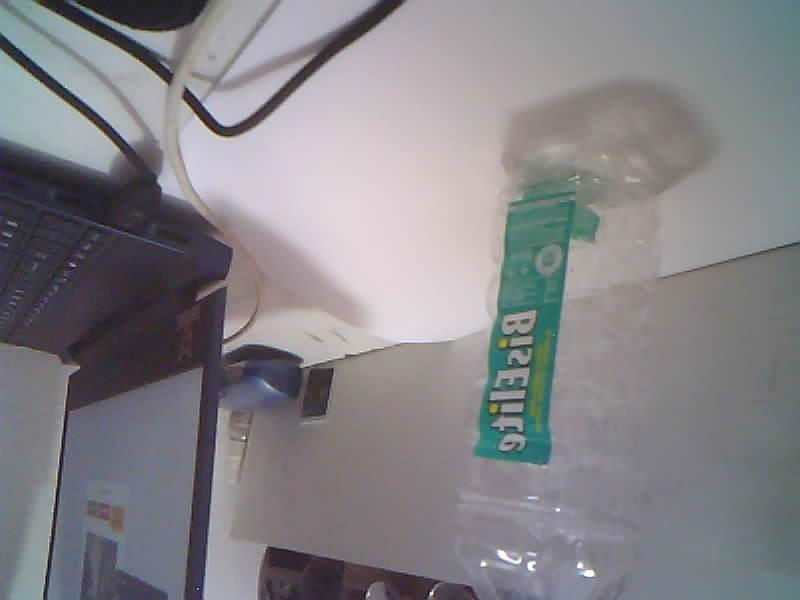non-biodegradable: (445, 111, 659, 599)
